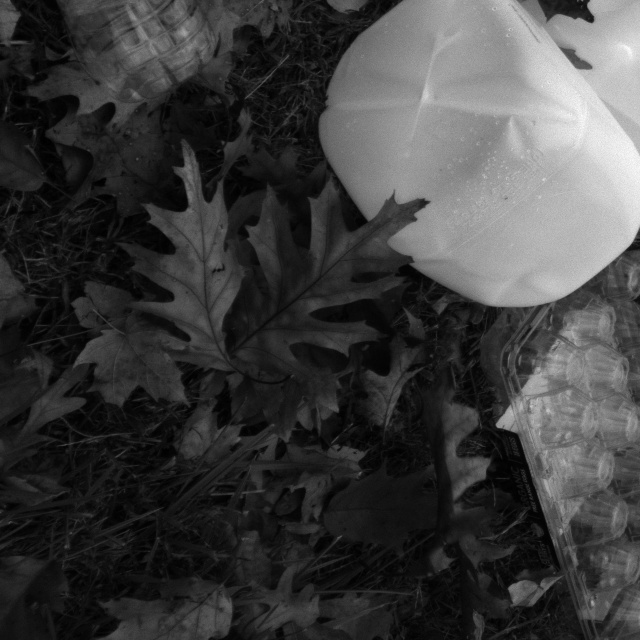bottle: (0, 0, 237, 137)
can: (299, 0, 638, 320), (535, 0, 640, 158), (577, 558, 639, 640)
container: (472, 293, 640, 637)
